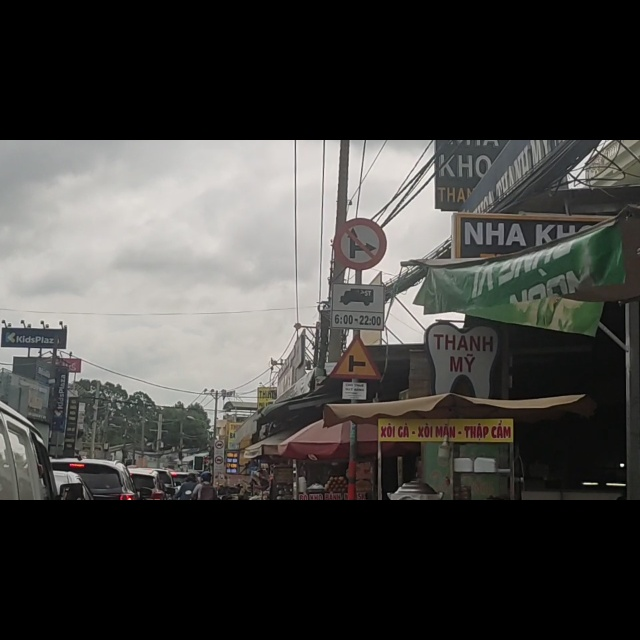bien_cam: (336, 140, 385, 229), (331, 258, 386, 333), (331, 348, 384, 422)
